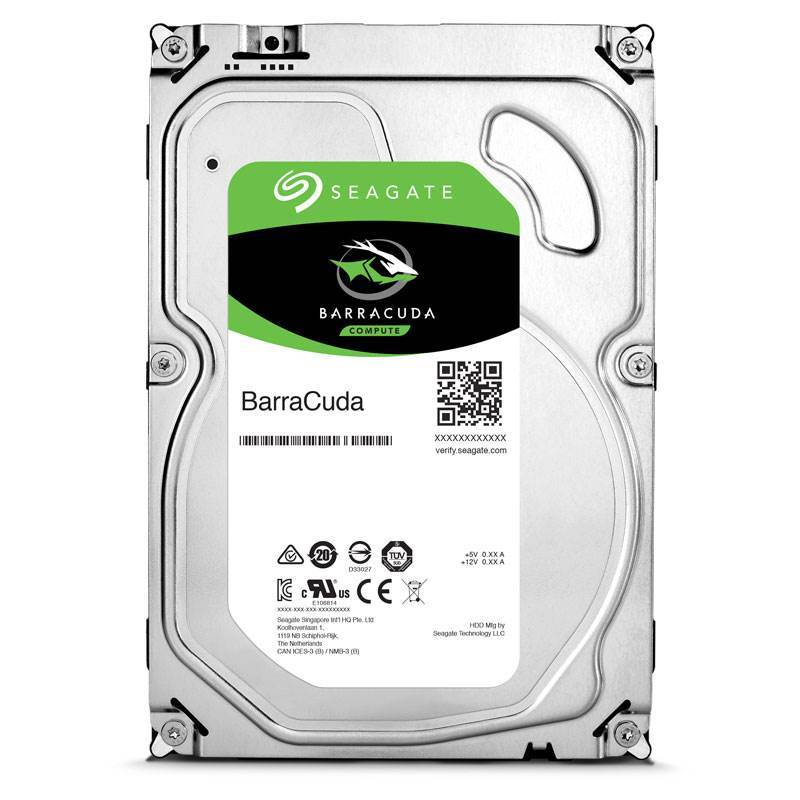seagate-hdd-240gb: (137, 29, 661, 778)
